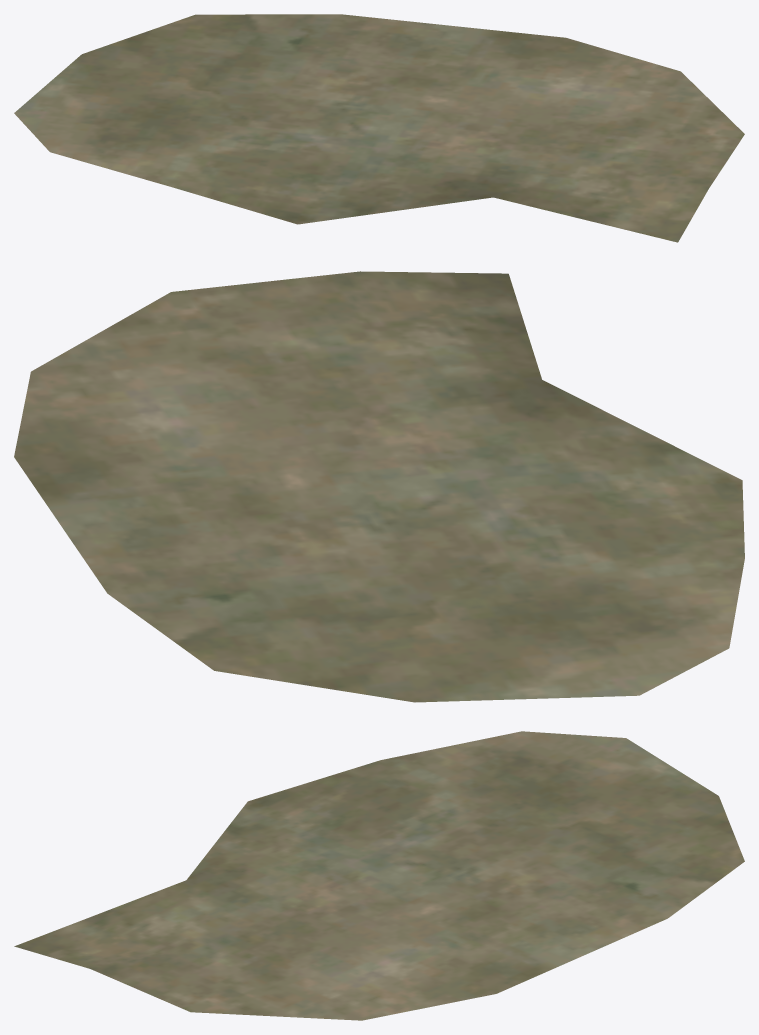
File: EKH_CAVERNS_PS_CA_OBJECT26.fbx
The picture shows the model from 3 angles, top to bottom: view 1: azimuth 30°, elevation 25°; view 2: azimuth 150°, elevation 25°; view 3: azimuth 270°, elevation 25°; orthographic projection. The views are drawn at different scales.
Parts seen in each view (by area): view 1: EKH_CAVERNS_PS_CA_OBJECT26; view 2: EKH_CAVERNS_PS_CA_OBJECT26; view 3: EKH_CAVERNS_PS_CA_OBJECT26.
Boxes of the visible parts, x1,y1,x2,y2 form: EKH_CAVERNS_PS_CA_OBJECT26: (14,14,744,242); EKH_CAVERNS_PS_CA_OBJECT26: (14,271,744,702); EKH_CAVERNS_PS_CA_OBJECT26: (14,731,744,1020).
Size of the model in its own units: 26769 by 524 by 28577.
1 material, 1 textured.
